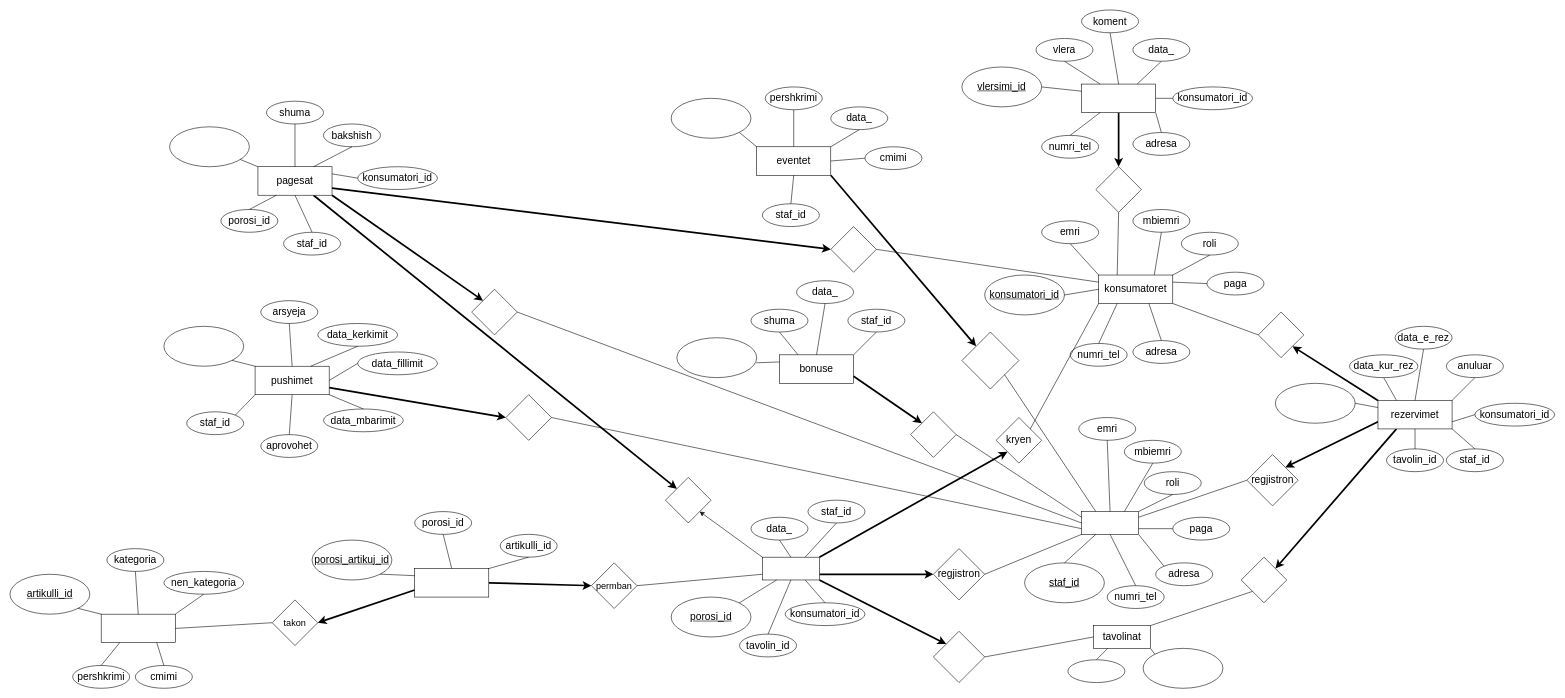
The diagram is 1565 pixels wide and 698 high, and some of its shapes have lost their labels. The shapes that lost their labels are listed below. From the top down, each one's box as (x1, y1, x2, y2) in pixels, then its label:
(671, 98, 751, 138): event_id
(1081, 84, 1156, 113): vlersimet
(169, 126, 249, 167): pagesa_id
(1095, 166, 1141, 212): japin
(830, 226, 876, 272): paguan
(471, 289, 517, 335): shenon
(163, 326, 244, 366): pushim_id
(1258, 312, 1304, 358): realizon
(676, 337, 757, 378): bonus_id
(961, 331, 1019, 389): organizon
(505, 394, 551, 440): merr
(1275, 383, 1355, 423): rezervimet_id
(910, 411, 956, 457): fiton
(665, 477, 711, 523): kerkon
(1081, 511, 1139, 534): stafi
(414, 568, 489, 597): porosi_artikuj
(762, 557, 819, 580): porosi
(1241, 557, 1287, 603): kan
(101, 614, 175, 643): menu
(933, 631, 985, 683): caktohen
(1067, 659, 1125, 683): statusi
(1143, 648, 1223, 688): tavloin_id
